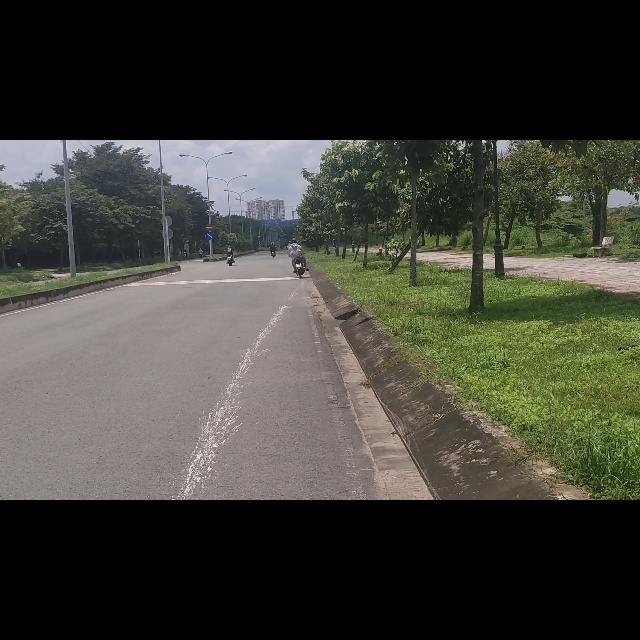bien_cam: (205, 163, 213, 177), (206, 148, 213, 162)
